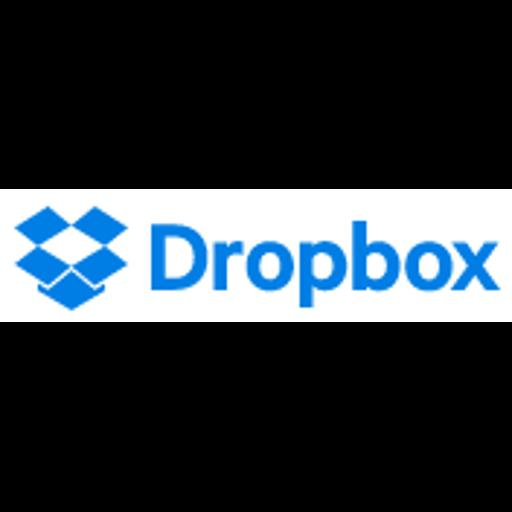Dropbox: (0, 189, 512, 322)
